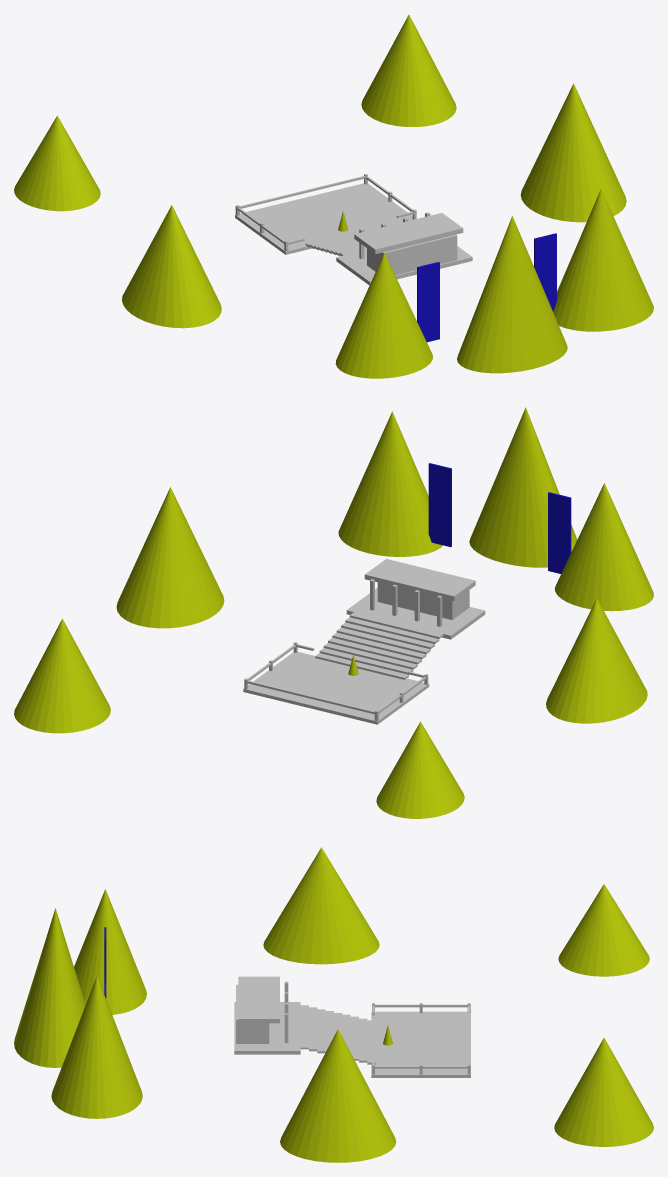
Rendered from primary_scene_01.obj.
The picture shows the model from 3 angles, top to bottom: view 1: azimuth 30°, elevation 25°; view 2: azimuth 150°, elevation 25°; view 3: azimuth 270°, elevation 25°; orthographic projection. The views are drawn at different scales.
Visible parts, largest first — view 1: BLK_Mountain_Back_Center, BLK_Mountain_Back_Right, BLK_Mountain_Right_Far, BLK_Mountain_Left_Far, BLK_Mountain_Back_Left, BLK_Mountain_Front_Right, BLK_Porch_Floor, BLK_Mountain_Front_Left, BLK_Temple_Roof, BLK_Temple_Body, BLK_Waterfall_Left, BLK_Waterfall_Right (+1 smaller); view 2: BLK_Mountain_Right_Far, BLK_Mountain_Back_Right, BLK_Mountain_Back_Center, BLK_Mountain_Left_Far, BLK_Mountain_Back_Left, BLK_Porch_Floor, BLK_Mountain_Front_Right, BLK_Mountain_Front_Left, BLK_Temple_Roof, BLK_Temple_Landing, BLK_Waterfall_Right, BLK_Waterfall_Left (+10 smaller); view 3: BLK_Mountain_Right_Far, BLK_Mountain_Left_Far, BLK_Mountain_Back_Right, BLK_Mountain_Back_Center, BLK_Mountain_Front_Right, BLK_Porch_Floor, BLK_Mountain_Front_Left, BLK_Mountain_Back_Left, BLK_Temple_Roof, BLK_Temple_Landing, BLK_Temple_Body.
Boxes of the visible parts, x1,y1,x2,y2 form: BLK_Mountain_Back_Center: [457, 216, 567, 373]; BLK_Mountain_Back_Right: [553, 189, 653, 331]; BLK_Mountain_Right_Far: [520, 83, 626, 222]; BLK_Mountain_Left_Far: [122, 205, 221, 328]; BLK_Mountain_Back_Left: [335, 253, 432, 378]; BLK_Mountain_Front_Right: [361, 15, 456, 126]; BLK_Porch_Floor: [235, 183, 412, 254]; BLK_Mountain_Front_Left: [14, 115, 100, 211]; BLK_Temple_Roof: [354, 213, 463, 254]; BLK_Temple_Body: [367, 234, 457, 274]; BLK_Waterfall_Left: [417, 262, 439, 342]; BLK_Waterfall_Right: [534, 233, 556, 311]; BLK_Mountain_Right_Far: [116, 487, 224, 628]; BLK_Mountain_Back_Right: [338, 411, 442, 556]; BLK_Mountain_Back_Center: [469, 407, 577, 567]; BLK_Mountain_Left_Far: [546, 598, 647, 723]; BLK_Mountain_Back_Left: [555, 483, 653, 611]; BLK_Porch_Floor: [243, 652, 429, 724]; BLK_Mountain_Front_Right: [14, 618, 110, 733]; BLK_Mountain_Front_Left: [376, 721, 464, 818]; BLK_Temple_Roof: [364, 559, 475, 600]; BLK_Temple_Landing: [346, 588, 485, 639]; BLK_Waterfall_Right: [428, 463, 451, 547]; BLK_Waterfall_Left: [548, 492, 571, 573]; BLK_Mountain_Right_Far: [280, 1029, 396, 1162]; BLK_Mountain_Left_Far: [263, 847, 379, 964]; BLK_Mountain_Back_Right: [51, 976, 142, 1118]; BLK_Mountain_Back_Center: [14, 908, 85, 1067]; BLK_Mountain_Front_Right: [554, 1037, 653, 1146]; BLK_Porch_Floor: [371, 1011, 470, 1077]; BLK_Mountain_Front_Left: [558, 884, 649, 976]; BLK_Mountain_Back_Left: [74, 889, 146, 1014]; BLK_Temple_Roof: [238, 976, 279, 1023]; BLK_Temple_Landing: [234, 1002, 300, 1054]; BLK_Temple_Body: [236, 984, 269, 1043].
Size of the model in its own units: 67.5 by 18.4 by 77.
